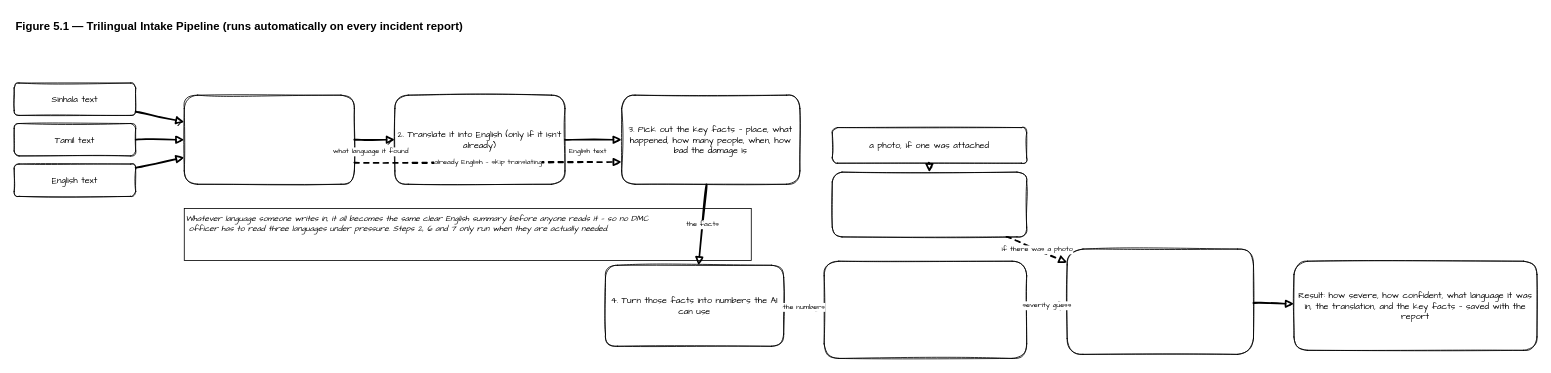
This 1551x373 diagram has some shape labels left out. The centre of each missing label's shape, as x and y in pixels:
1. Work out what language it is written in: the point at 268,139
5. AI guesses: how severe, what kind of disaster, how urgent, what is needed: the point at 925,309
6. Turn the photo into something the AI can compare (only if there is one): the point at 929,204
7. Combine the text and photo results together: the point at 1159,301
